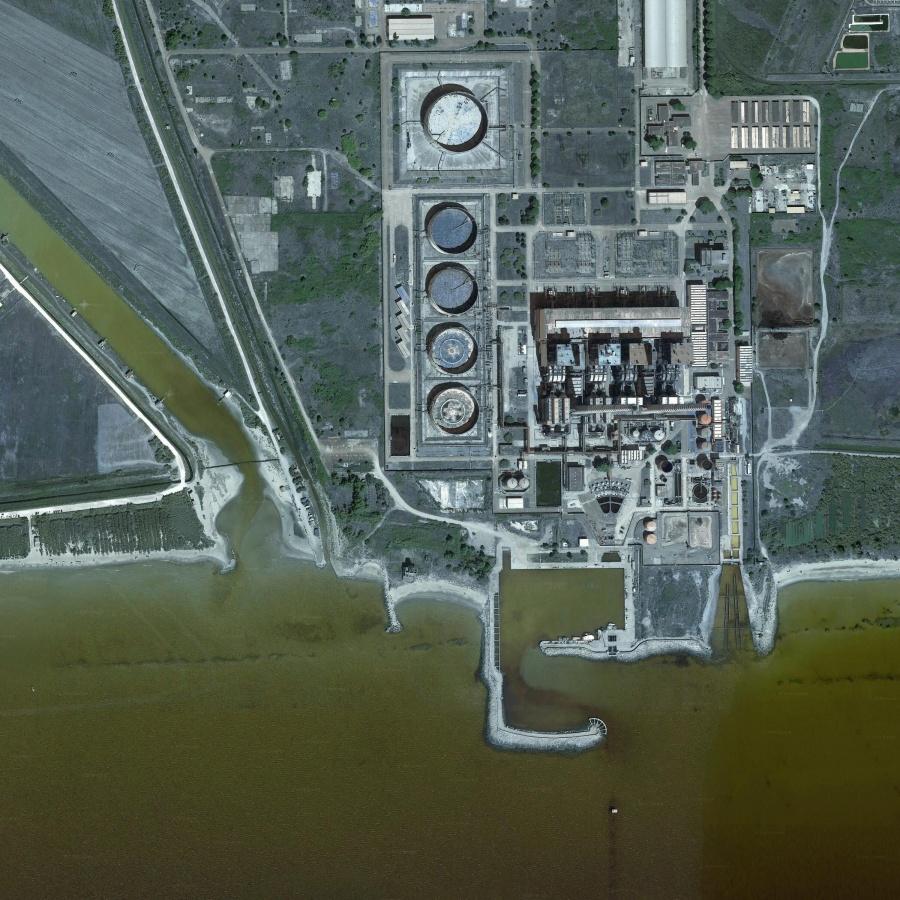PowerPlant: (377, 52, 526, 468)
